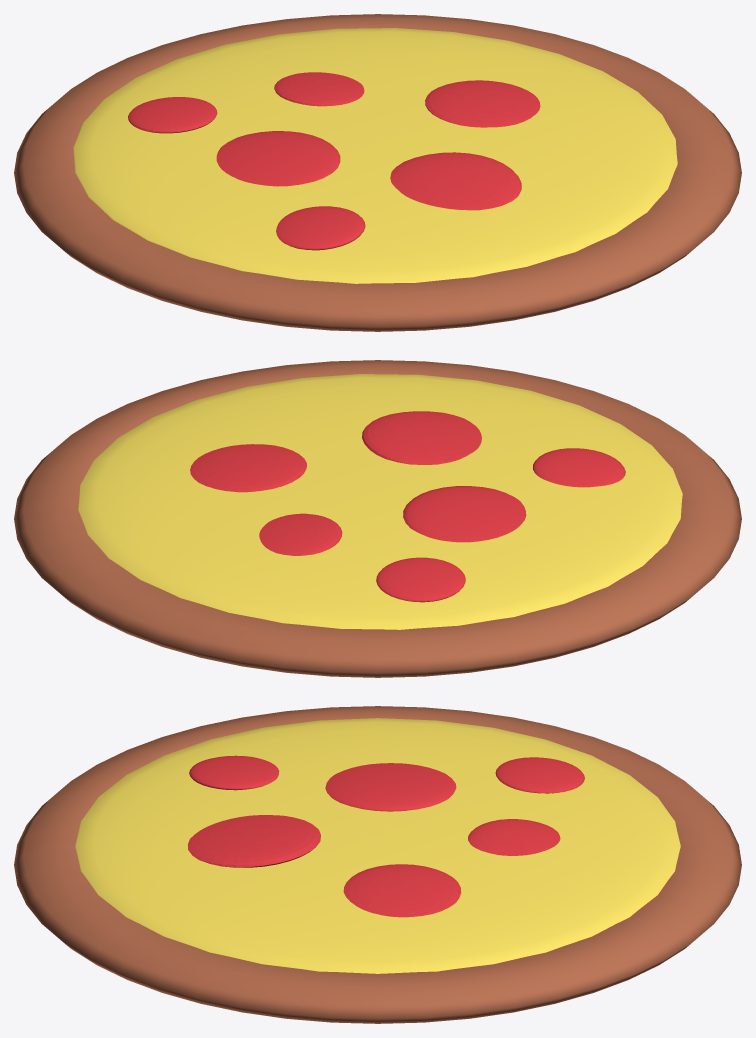
File: Pizza.fbx
3 renders of one model, top to bottom at view 1: azimuth 30°, elevation 25°; view 2: azimuth 150°, elevation 25°; view 3: azimuth 270°, elevation 25°, orthographic.
Parts seen in each view (by area): view 1: Pizza; view 2: Pizza; view 3: Pizza.
Boxes of the visible parts, <box> form: Pizza: <box>14,14,741,331</box>; Pizza: <box>14,360,741,677</box>; Pizza: <box>14,706,741,1023</box>.
Bounding box in the file's own units: 464 × 40.15 × 464.
